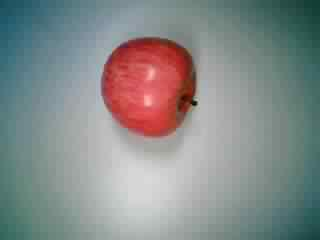apple: (97, 36, 201, 140)
